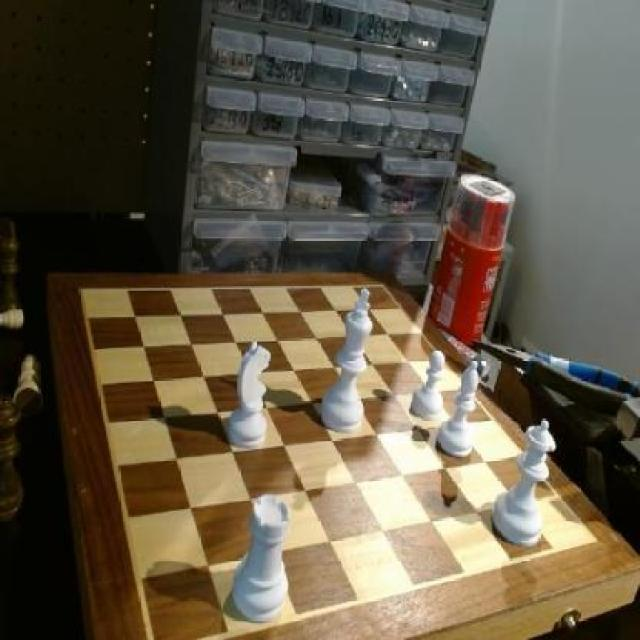black-rook: (442, 358, 479, 460)
white-bishop: (328, 282, 374, 439)
white-king: (225, 340, 273, 449)
white-knight: (409, 349, 448, 418)
white-pawn: (492, 412, 556, 558)
white-queen: (222, 489, 294, 624)
